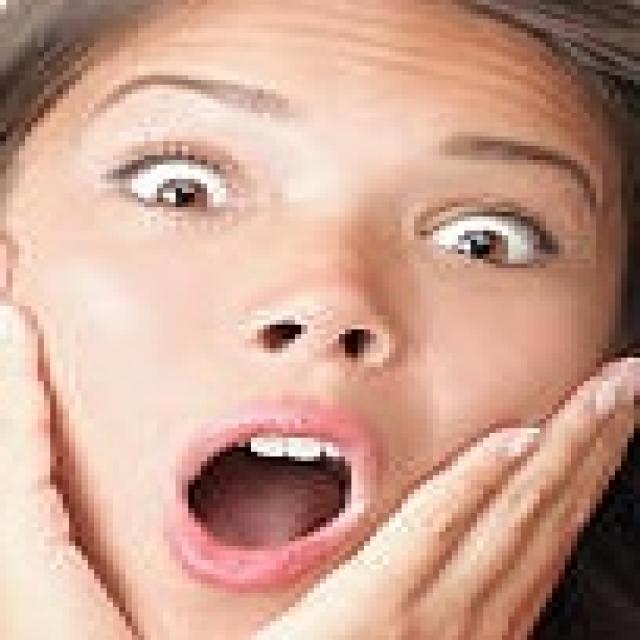Anxiety: (0, 0, 630, 635)
